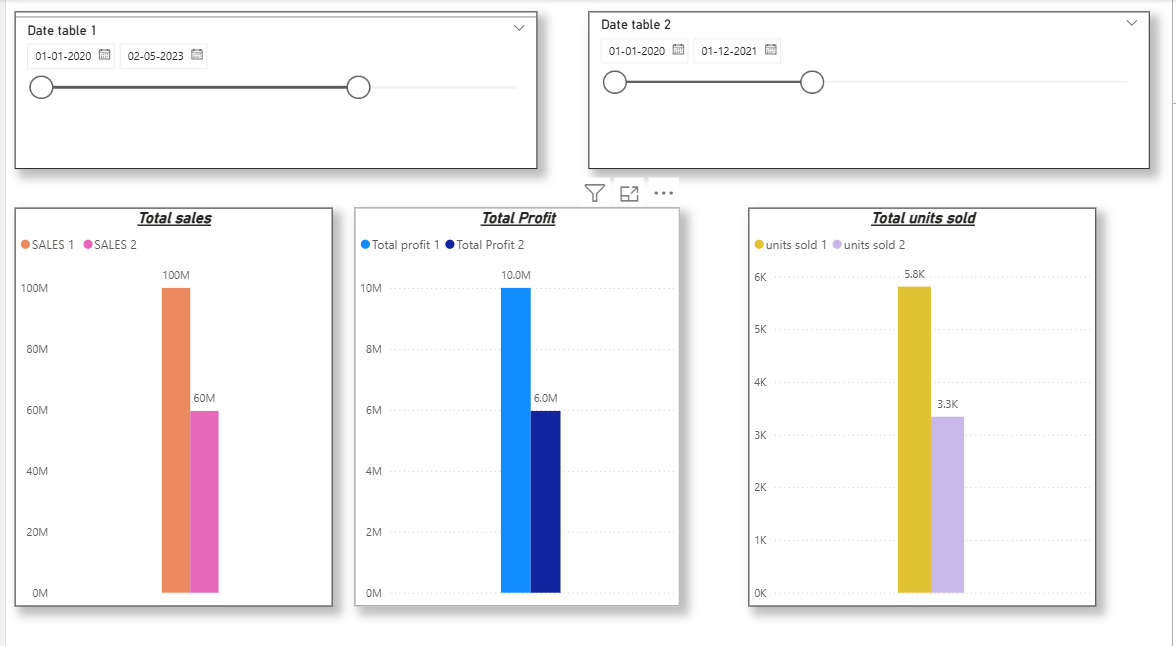

Layout of this report page (visuals, bound fields, positions):
{"tool":"powerbi","page":{"name":"Sales & Profit Comparison","canvas":[1280,720],"ordinal":2},"visuals":[{"type":"slicer","fields":{"Values":["DATE TABLE 1.Date"]},"box":[9.6,13.7,573.6,172.9],"z":0},{"type":"slicer","fields":{"Values":["DATE TABLE 2.Date"]},"box":[639.5,13.7,616.1,172.9],"z":1000},{"type":"clusteredColumnChart","title":"Total sales","fields":{"Y":["Sum(Fact Table.Net Sales)","DATE TABLE 1.sum of net sales"]},"box":[9.6,229.2,348.5,437.7],"z":2000},{"type":"clusteredColumnChart","title":"Total Profit","fields":{"Y":["Sum(Fact Table.profit)","measures table.Total Profit"]},"box":[382.8,229.2,356.8,437.7],"z":3000},{"type":"clusteredColumnChart","title":"Total units sold","fields":{"Y":["Sum(Fact Table.Units Sold)","measures table.units sold"]},"box":[815.1,229.2,381.5,437.7],"z":4000}]}

Visuals, with their boxes in screenshot pixels (x1, y1, x2, y2), scaled from the page's 1280x720 canvas onto the 1176x646 screenshot:
slicer - DATE TABLE 1.Date: {"left": 9, "top": 12, "right": 536, "bottom": 167}
slicer - DATE TABLE 2.Date: {"left": 588, "top": 12, "right": 1154, "bottom": 167}
"Total sales" clusteredColumnChart: {"left": 9, "top": 206, "right": 329, "bottom": 598}
"Total Profit" clusteredColumnChart: {"left": 352, "top": 206, "right": 680, "bottom": 598}
"Total units sold" clusteredColumnChart: {"left": 749, "top": 206, "right": 1099, "bottom": 598}
